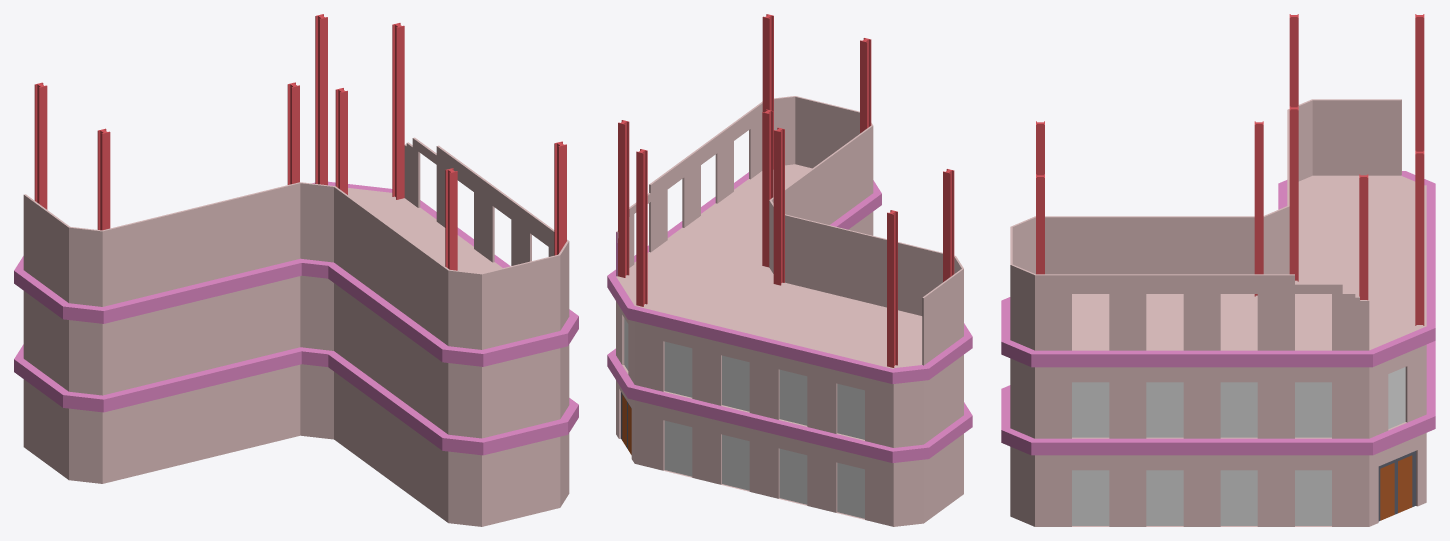
The picture shows the model from 3 angles, left to right: view 1: azimuth 30°, elevation 25°; view 2: azimuth 150°, elevation 25°; view 3: azimuth 270°, elevation 25°; orthographic projection. The views are drawn at different scales.
Parts seen in each view (by area): view 1: Predio 6 A.003; view 2: Predio 6 A.003; view 3: Predio 6 A.003.
Boxes of the visible parts, box(x1,y1,x2,y2) form: Predio 6 A.003: box(14, 14, 578, 526); Predio 6 A.003: box(607, 14, 972, 526); Predio 6 A.003: box(1001, 14, 1435, 526).
Bounding box in the file's own units: 8946 × 7913 × 8946.
